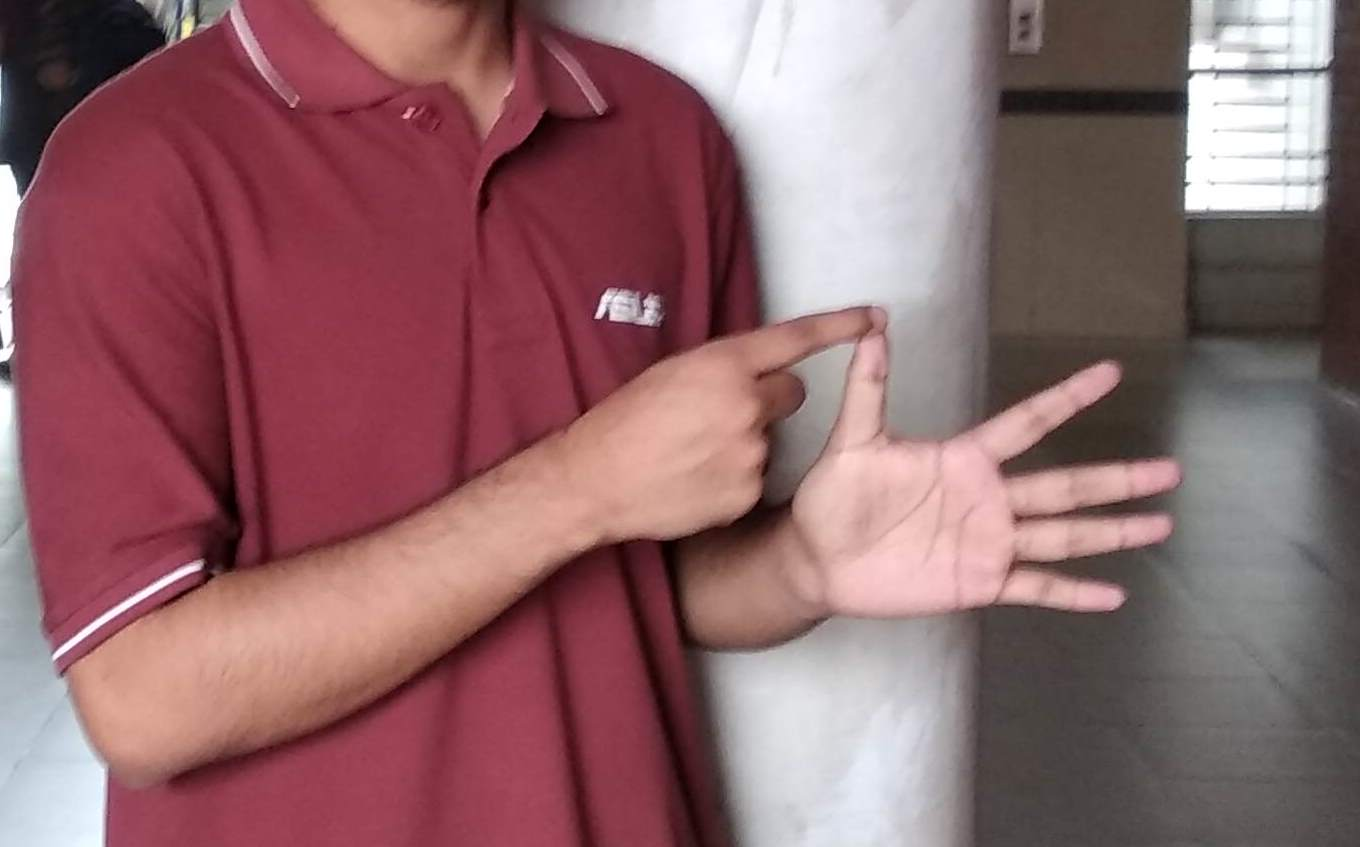a: (633, 318, 1148, 629)
